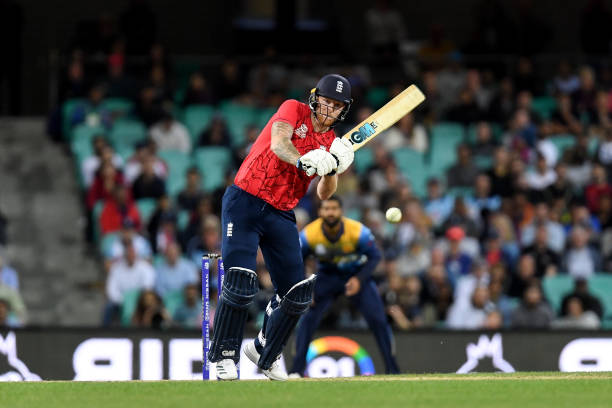bottom left: (405, 78, 419, 92)
bottom right: (415, 92, 430, 107)
top left: (333, 128, 349, 144)
top right: (339, 142, 358, 161)
